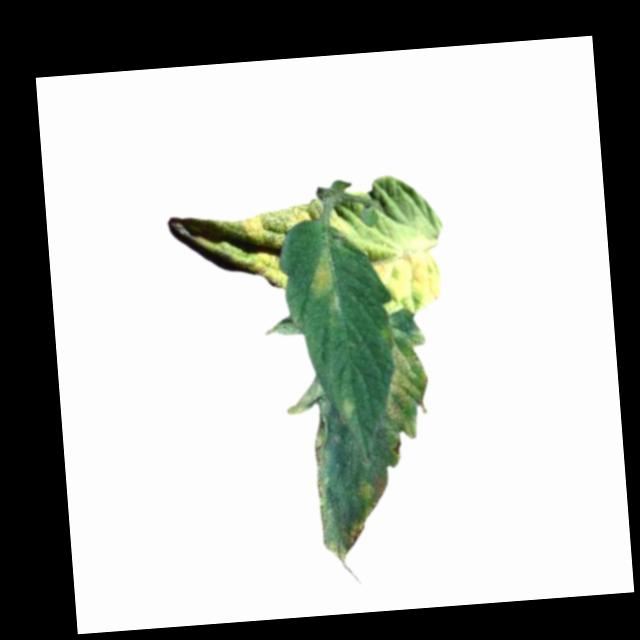Leaf_Mold: (188, 200, 324, 292), (377, 321, 433, 437), (374, 242, 445, 314), (355, 463, 391, 512), (309, 245, 338, 299), (340, 519, 367, 552)
